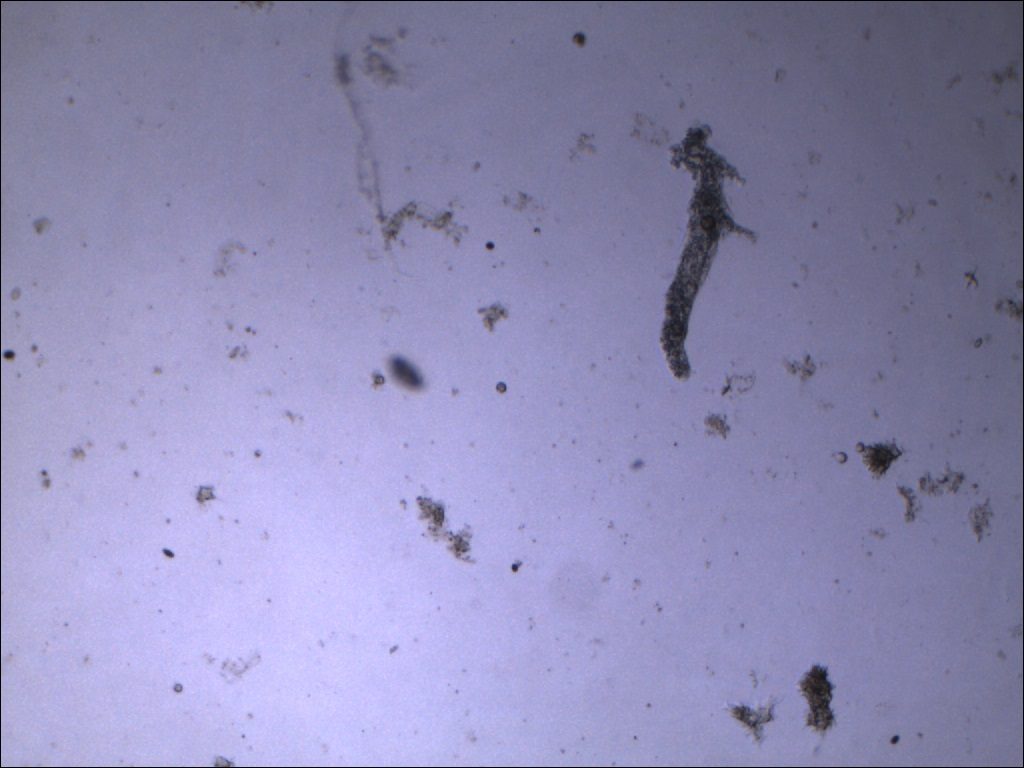amoeba: (652, 119, 765, 390)
